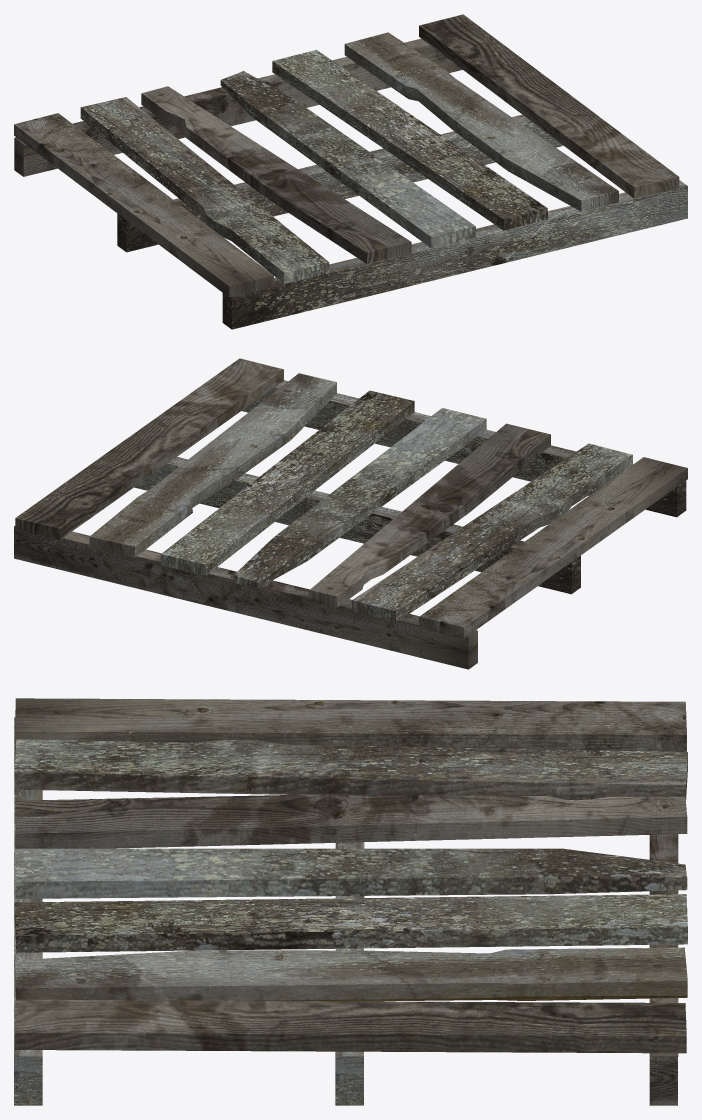
File: Palette.fbx
3 renders of one model, top to bottom at view 1: azimuth 30°, elevation 25°; view 2: azimuth 150°, elevation 25°; view 3: azimuth 270°, elevation 25°, orthographic. The views are drawn at different scales.
Parts seen in each view (by area): view 1: mesh_0.1480; view 2: mesh_0.1480; view 3: mesh_0.1480.
Part boxes in pixels (x1,y1,x2,y2): mesh_0.1480: (14, 14, 687, 329); mesh_0.1480: (14, 358, 687, 669); mesh_0.1480: (14, 698, 687, 1105).
Size of the model in its own units: 1.35 by 0.1223 by 1.13.
